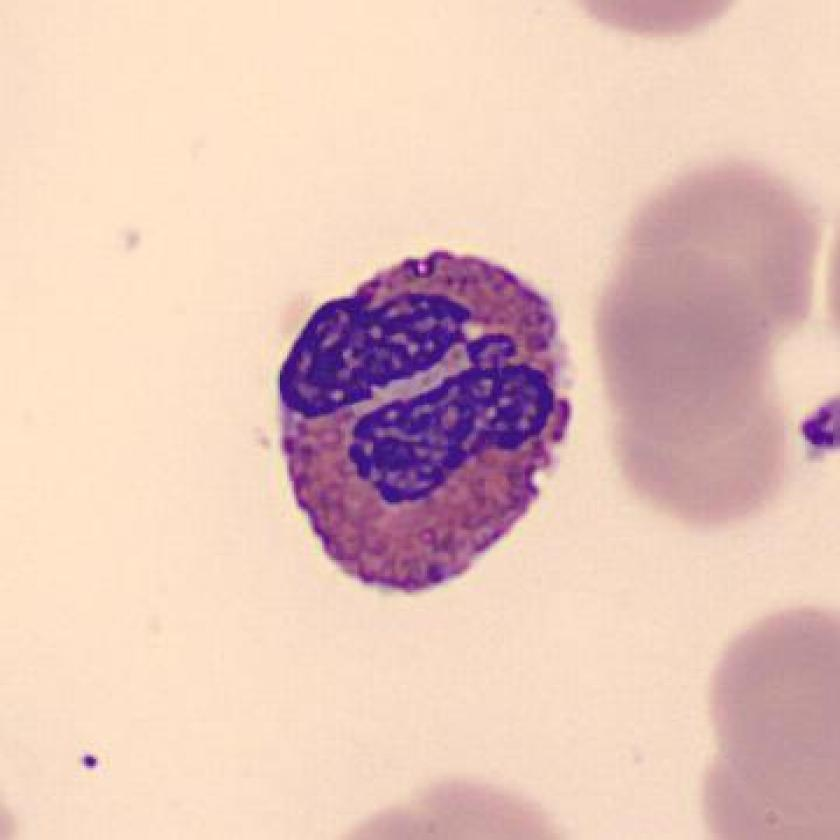eosinophil: (258, 235, 594, 617)
